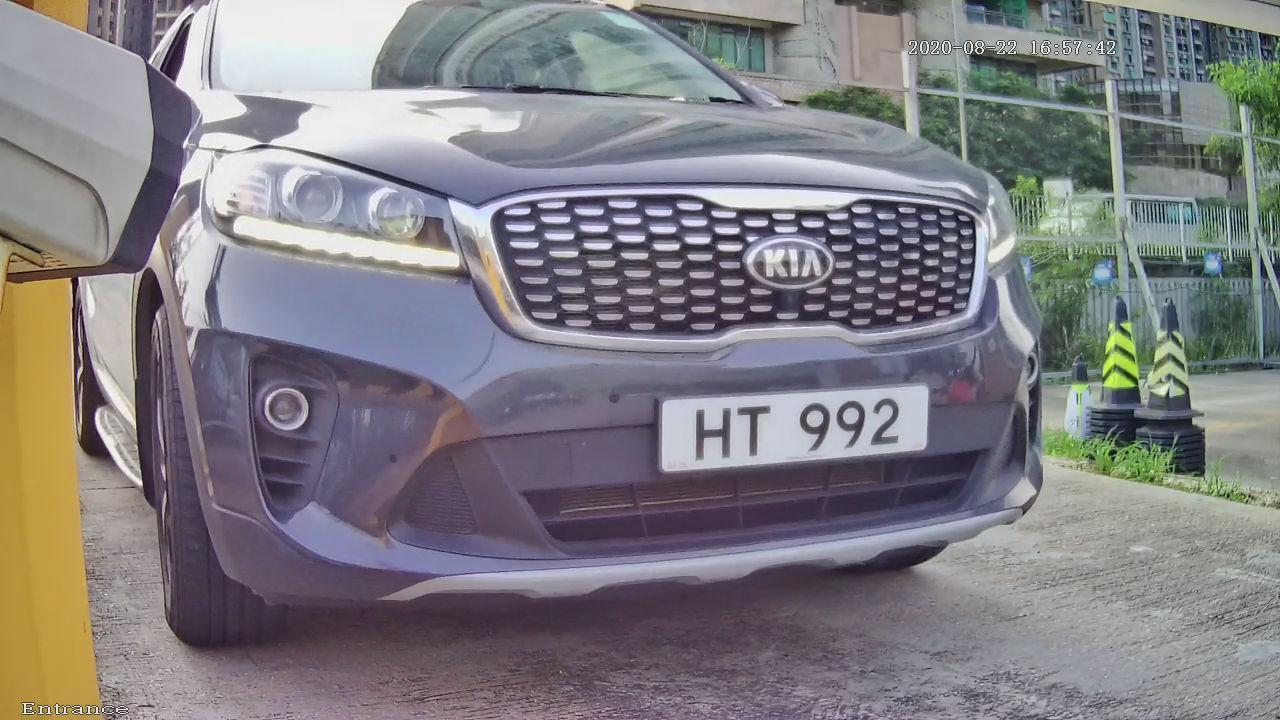Car: (23, 10, 1126, 656)
License Plate: (646, 373, 938, 479)
